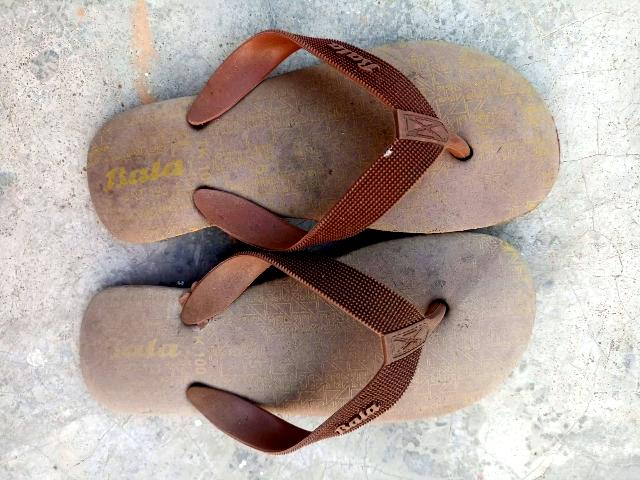sandal: (78, 34, 543, 315), (70, 220, 532, 450)
